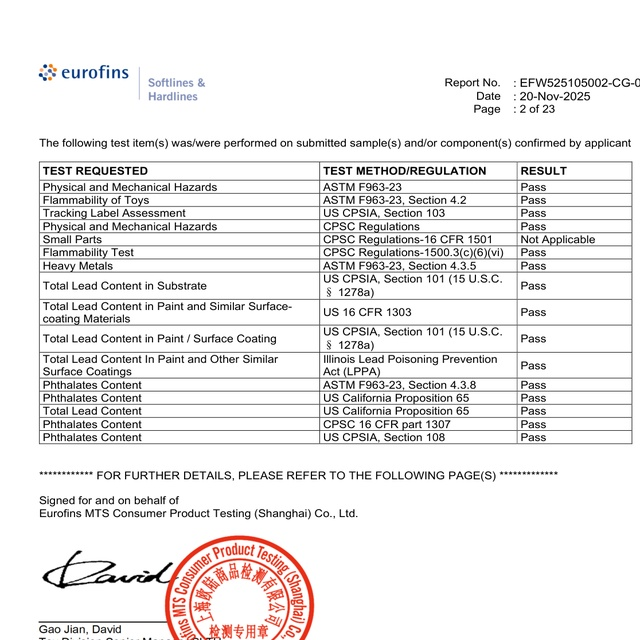eurofins: (35, 59, 135, 87)
